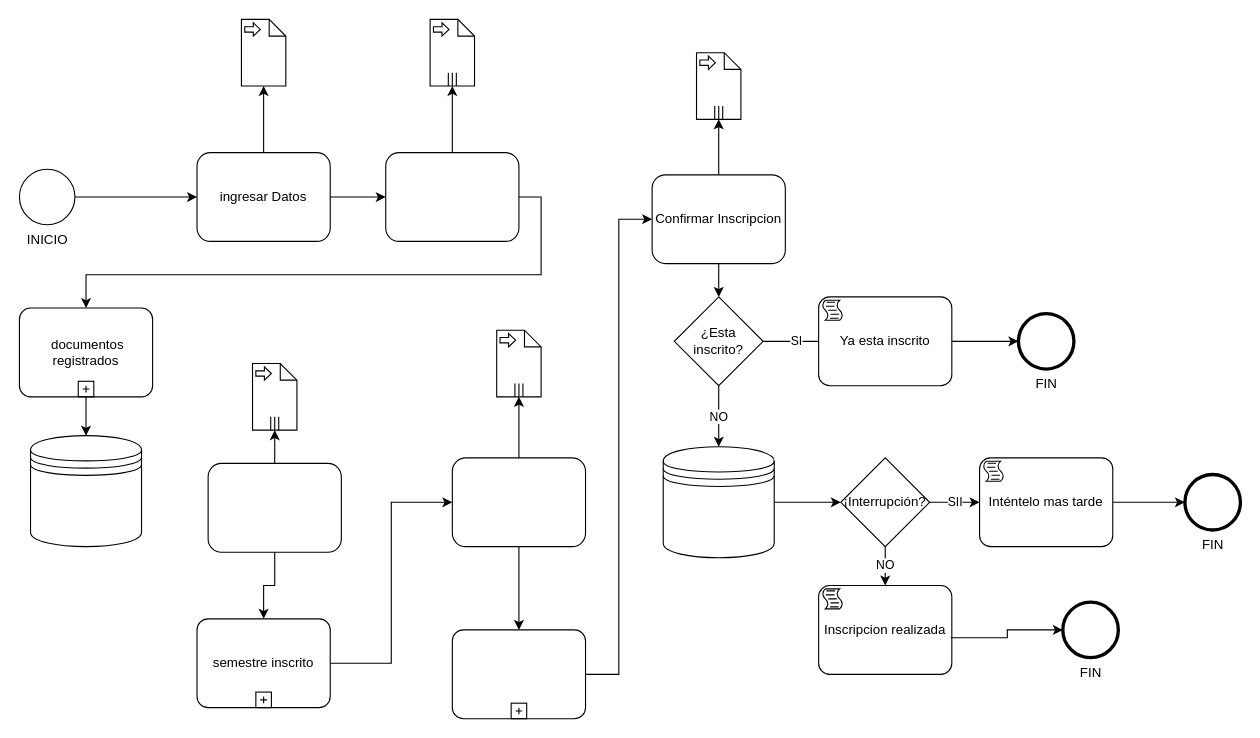
The diagram is 1260 pixels wide and 738 high, and some of its shapes have lost their labels. The centre of each missing label's shape, as x and y in pixels:
"materia inscrita" goes at (518,674).
"Registrar Docuemtnos" goes at (452,196).
"REGISTRAR DOCUMENTOS" goes at (85,491).
"REGISTRAR INSCRIPCION" goes at (718,502).
"Seleccionar Materia" goes at (518,502).
"Seleccionar Semestre" goes at (274,507).
